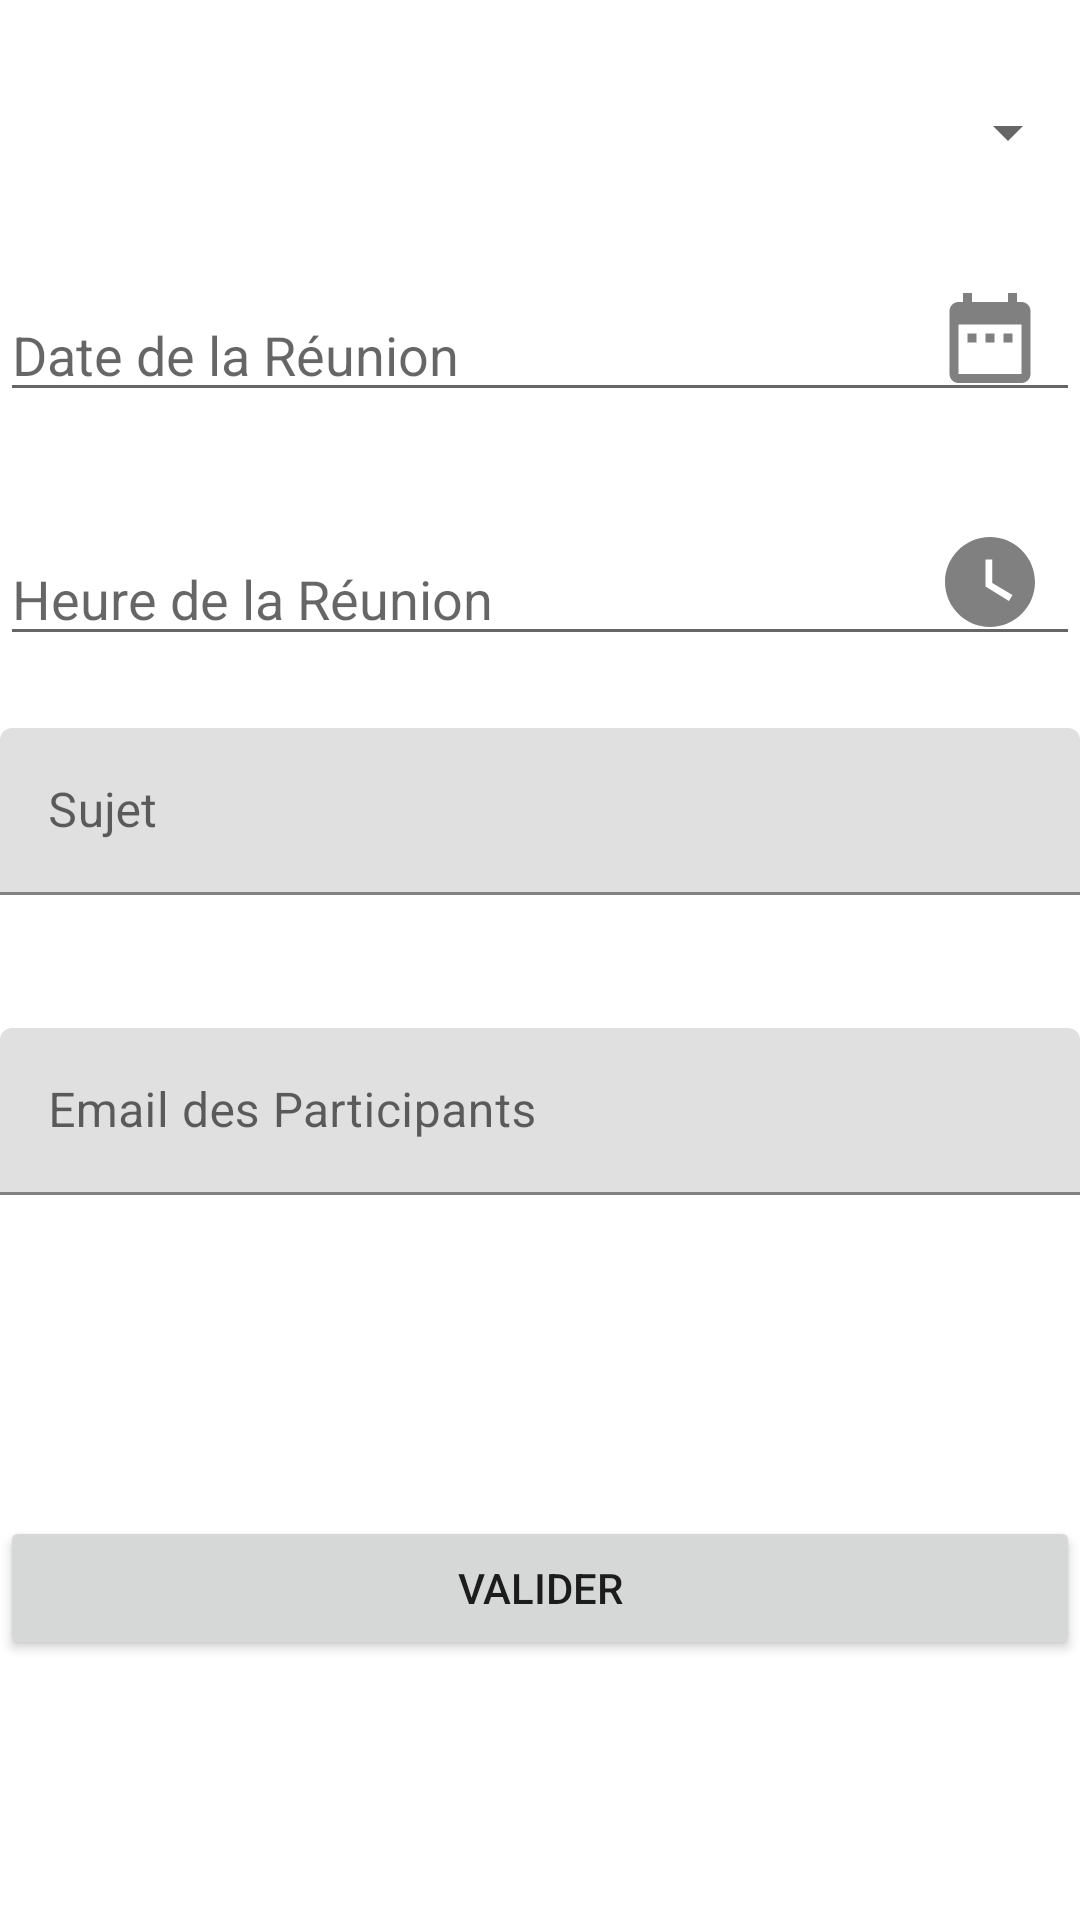

Screen size 1080w x 1920h. Icon name, then its center in pixels as (x=x, y=y):
calendar: (x=990, y=338)
clock: (x=990, y=582)
